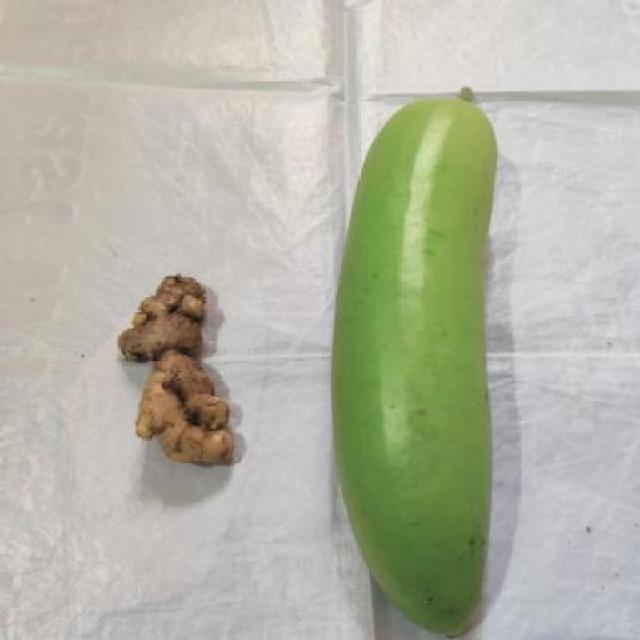Calabash: (331, 79, 497, 636)
Ginger: (112, 272, 242, 468)
